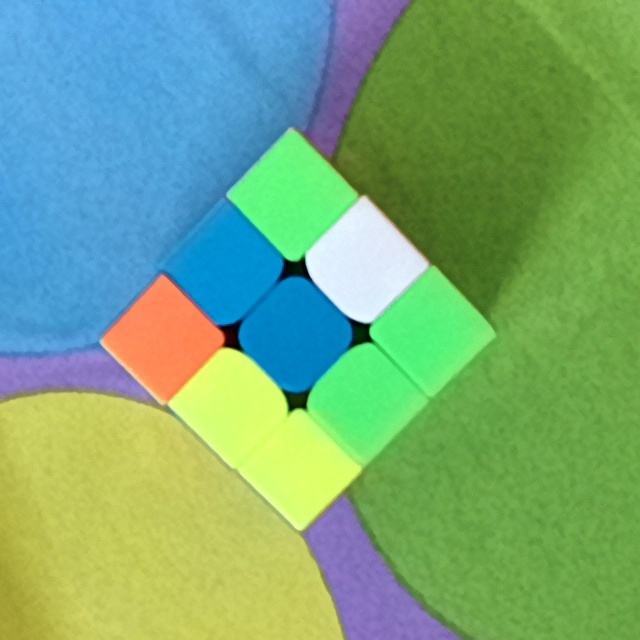tile: (257, 165, 324, 231), (402, 298, 464, 364), (333, 369, 396, 433), (262, 304, 327, 366), (130, 307, 192, 367), (335, 230, 393, 292), (201, 376, 263, 434), (198, 235, 250, 299), (270, 442, 326, 501)
